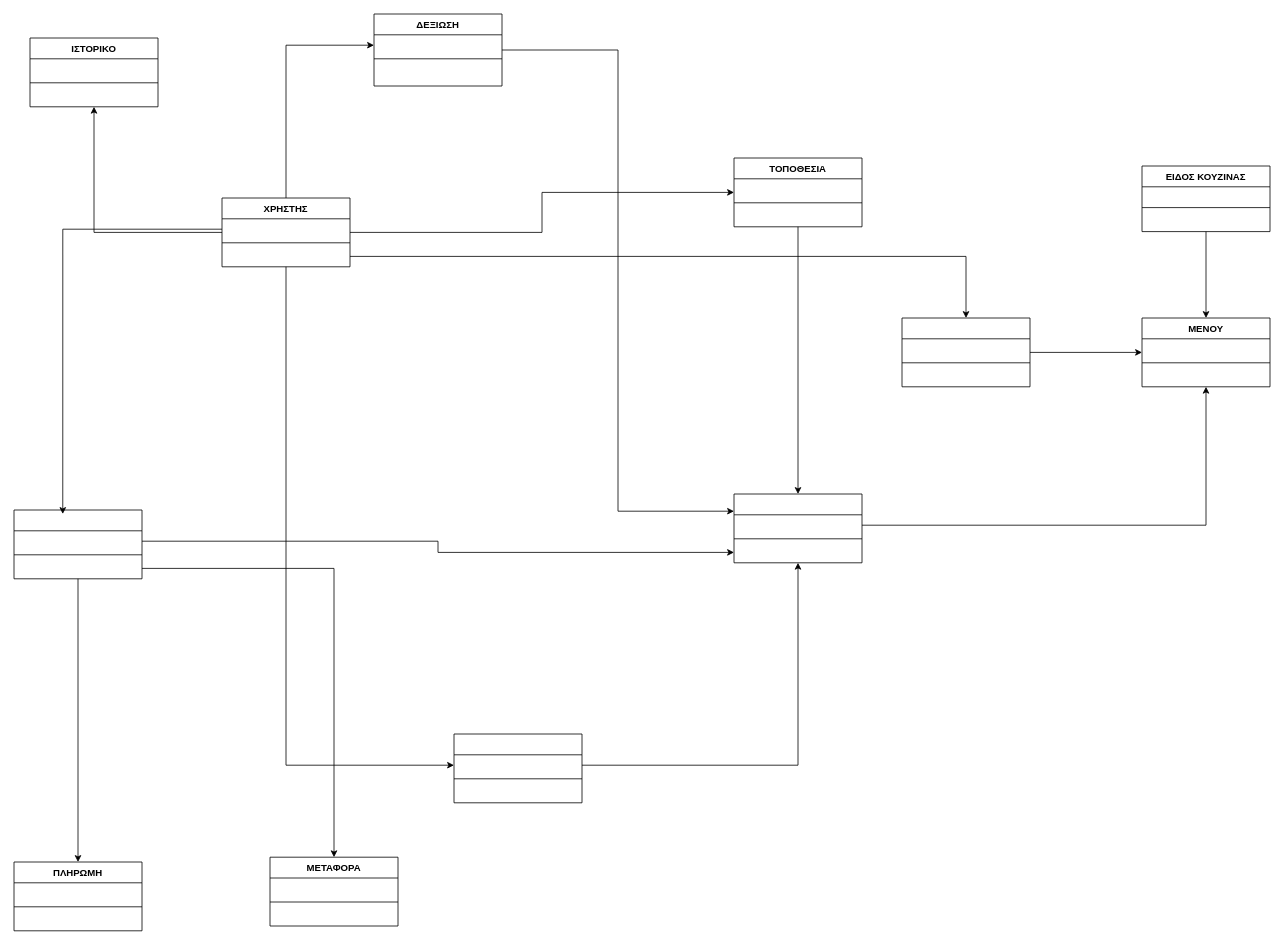
This 1284x947 diagram has some shape labels left out. The shapes that lost their labels are listed below. From the top down, each one's centre as x and y in pixels, then its label:
(965,352): ΑΛΕΡΓΙΑ
(77,544): ΚΡΑΤΗΣΗ
(797,528): ΕΣΤΙΑΤΟΡΙΟ
(517,768): ΑΞΙΟΛΟΓΗΣΗ
